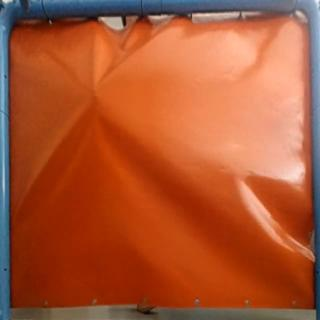Hit-hRxx: (86, 85, 102, 102)
